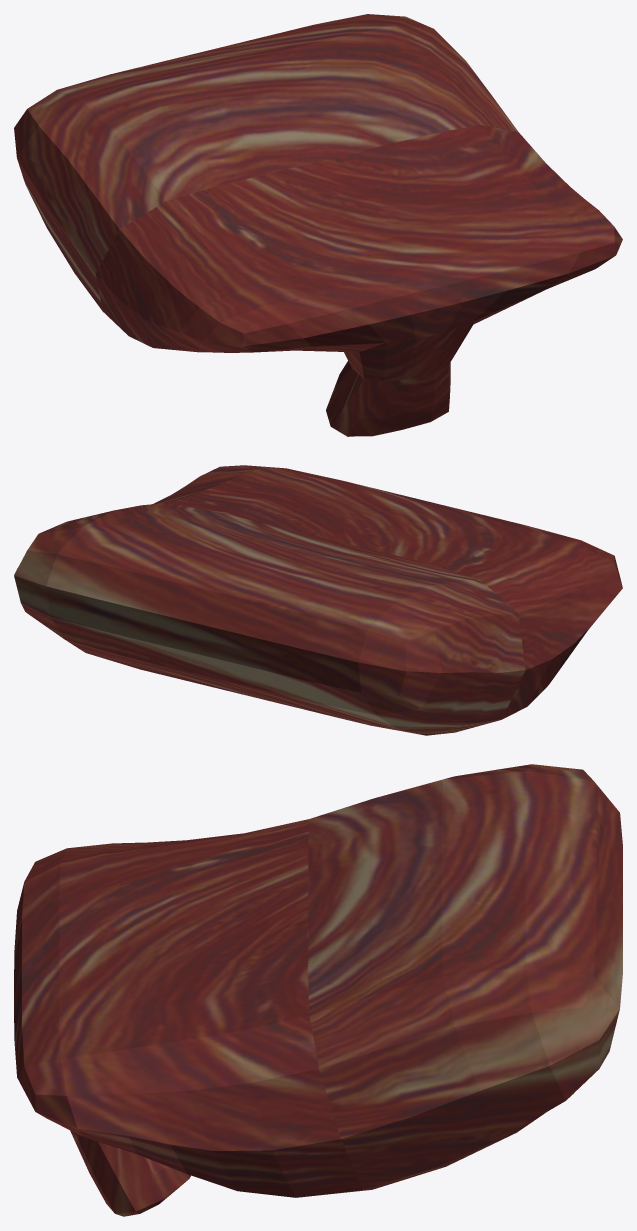
The model's file is Cerebelo.player.fbx.
The picture shows the model from 3 angles, top to bottom: view 1: azimuth 30°, elevation 25°; view 2: azimuth 150°, elevation 25°; view 3: azimuth 270°, elevation 25°; orthographic projection. The views are drawn at different scales.
Visible parts, largest first — view 1: Cerebelo; view 2: Cerebelo; view 3: Cerebelo.
Part boxes in pixels (x1=…): Cerebelo: x1=14, y1=14, x2=622, y2=436; Cerebelo: x1=14, y1=465, x2=622, y2=735; Cerebelo: x1=14, y1=764, x2=622, y2=1216.
Size of the model in its own units: 184 by 103 by 175.
1 material, 1 textured.
